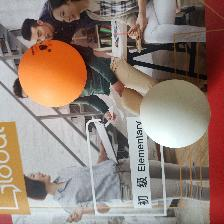WhiteBall: (139, 78, 210, 148)
YellowBall: (17, 39, 86, 107)
